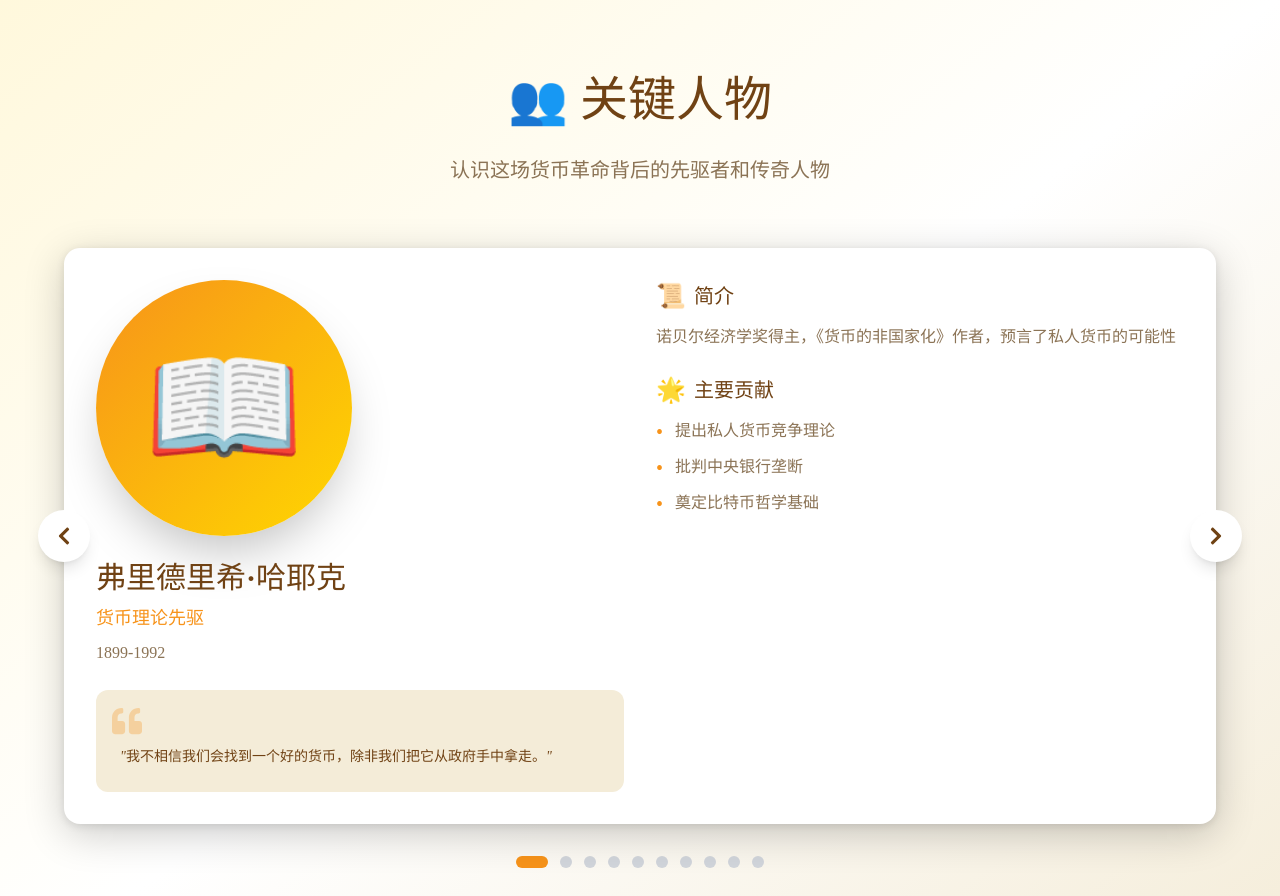
FiguresGallery › navigates to next figure on next button click
This screenshot has width=1280, height=896.
Click the button named "下一位人物" at (1216, 536), box [1190, 510, 1242, 562]
(page scrolled)
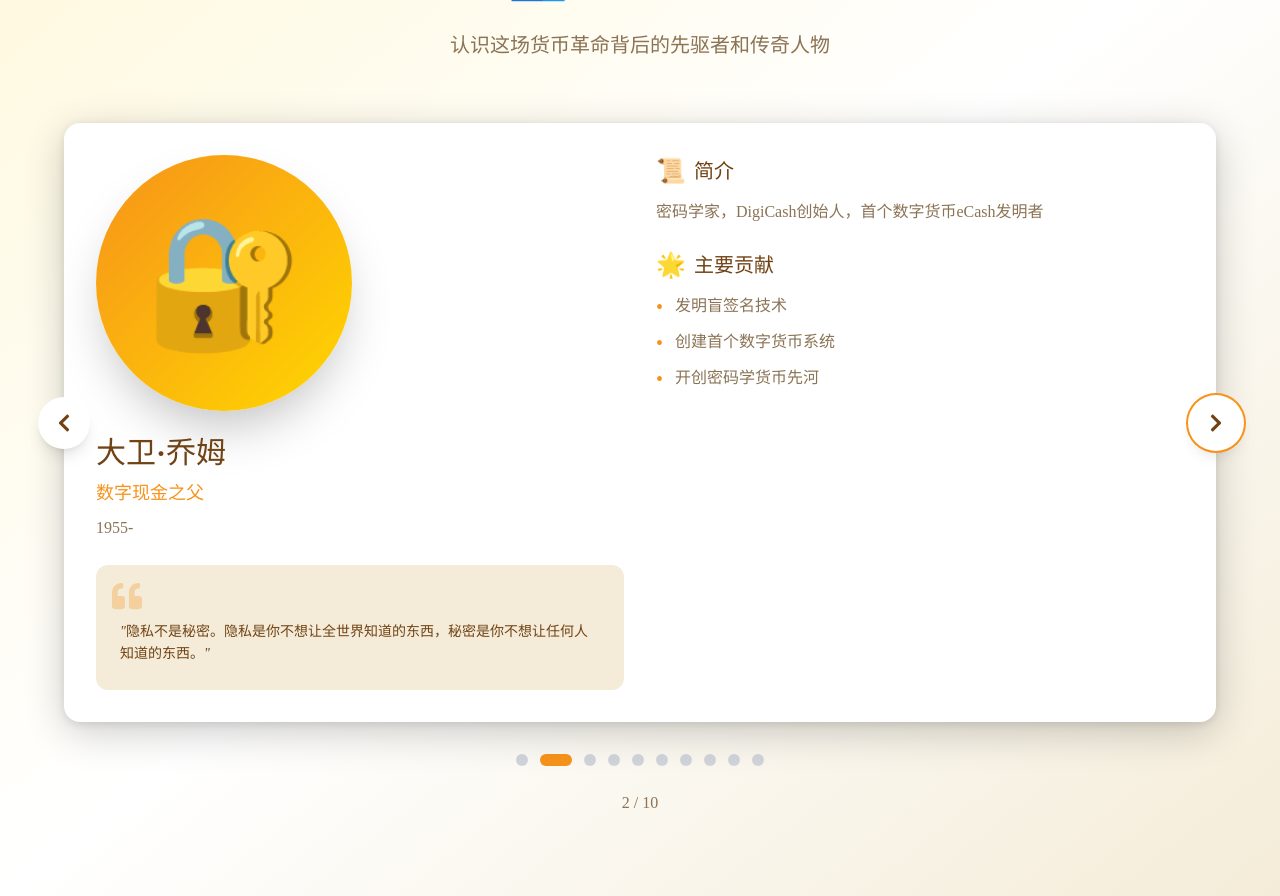
expect the heading "大卫·乔姆" is shown: met, box [96, 436, 226, 469]
